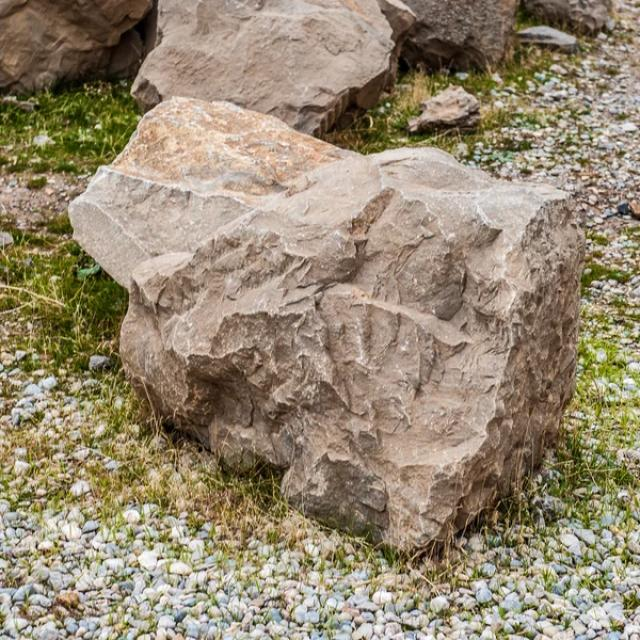stone: (69, 98, 585, 548), (131, 0, 413, 137), (400, 0, 519, 68)
